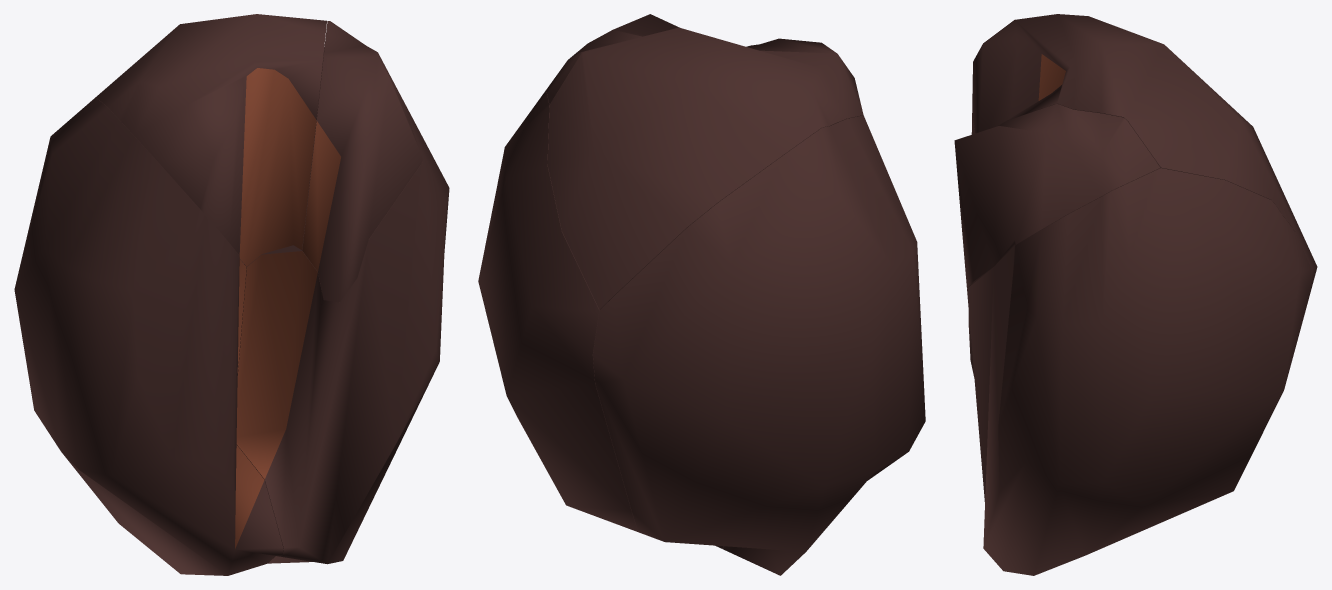
The model's file is CoffeeBean_Destruct_4.fbx.
The picture shows the model from 3 angles, left to right: view 1: azimuth 30°, elevation 25°; view 2: azimuth 150°, elevation 25°; view 3: azimuth 270°, elevation 25°; orthographic projection. The views are drawn at different scales.
Visible parts, largest first — view 1: Icosphere.008_cell.010, Icosphere.008_cell.011, Icosphere.008_cell.009, Icosphere.008_cell.012; view 2: Icosphere.008_cell.010, Icosphere.008_cell.009, Icosphere.008_cell.011, Icosphere.008_cell.012; view 3: Icosphere.008_cell.011, Icosphere.008_cell.009, Icosphere.008_cell.012, Icosphere.008_cell.010.
Part boxes in pixels (x1,y1,x2,y2): Icosphere.008_cell.010: [14, 97, 283, 575]; Icosphere.008_cell.011: [236, 49, 449, 564]; Icosphere.008_cell.009: [95, 14, 326, 266]; Icosphere.008_cell.012: [302, 21, 422, 302]; Icosphere.008_cell.010: [593, 115, 925, 575]; Icosphere.008_cell.009: [547, 27, 863, 309]; Icosphere.008_cell.011: [478, 90, 723, 548]; Icosphere.008_cell.012: [546, 14, 679, 104]; Icosphere.008_cell.011: [967, 168, 1311, 575]; Icosphere.008_cell.009: [972, 14, 1295, 231]; Icosphere.008_cell.012: [954, 103, 1160, 288]; Icosphere.008_cell.010: [968, 100, 1317, 376].
Bounding box in the file's own units: 299 × 389 × 246.
